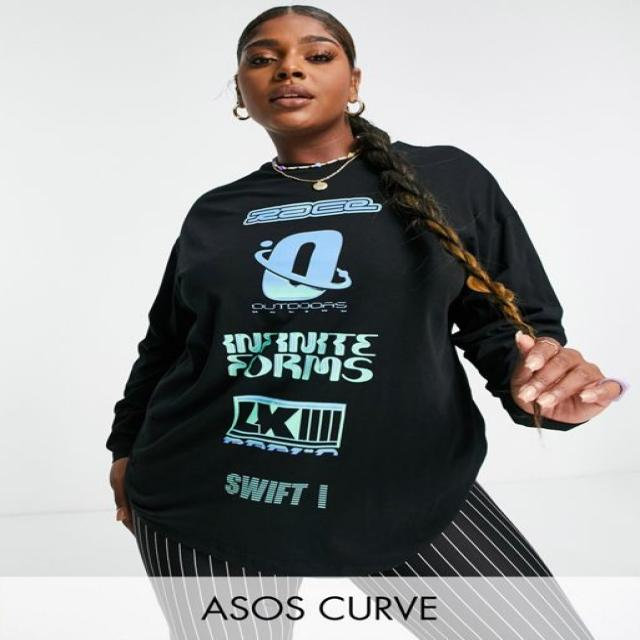tshirt: (107, 141, 568, 574)
